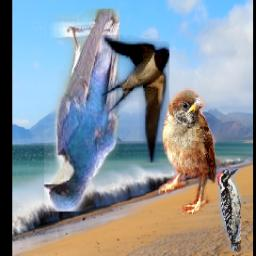Sparrow: (157, 88, 233, 214)
Swallow: (44, 10, 120, 213), (102, 35, 169, 163)
Woodpecker: (216, 169, 241, 253)
